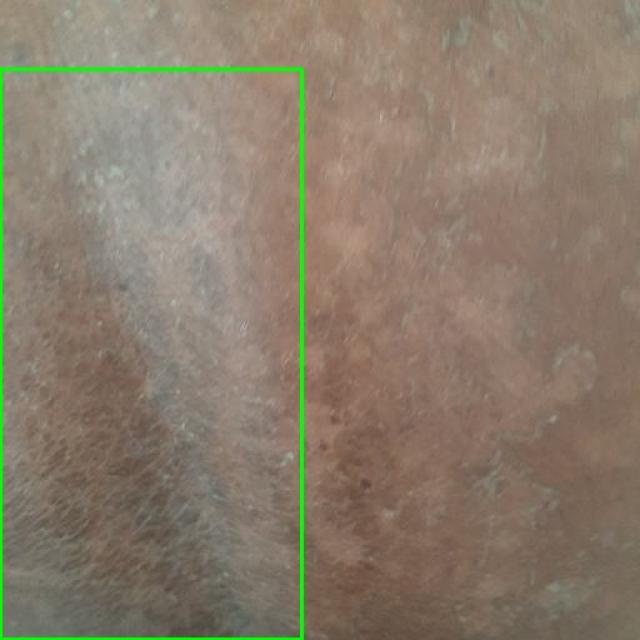Seborrheic Dermatitis: (0, 69, 301, 639)
